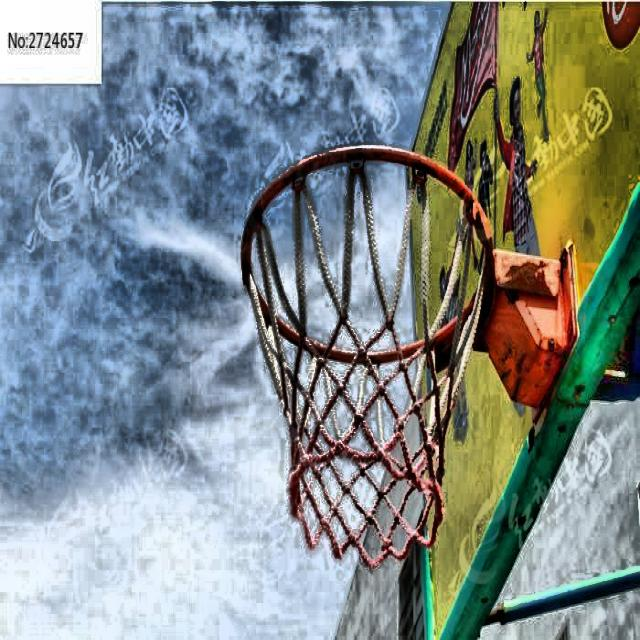rim: (241, 144, 492, 565)
